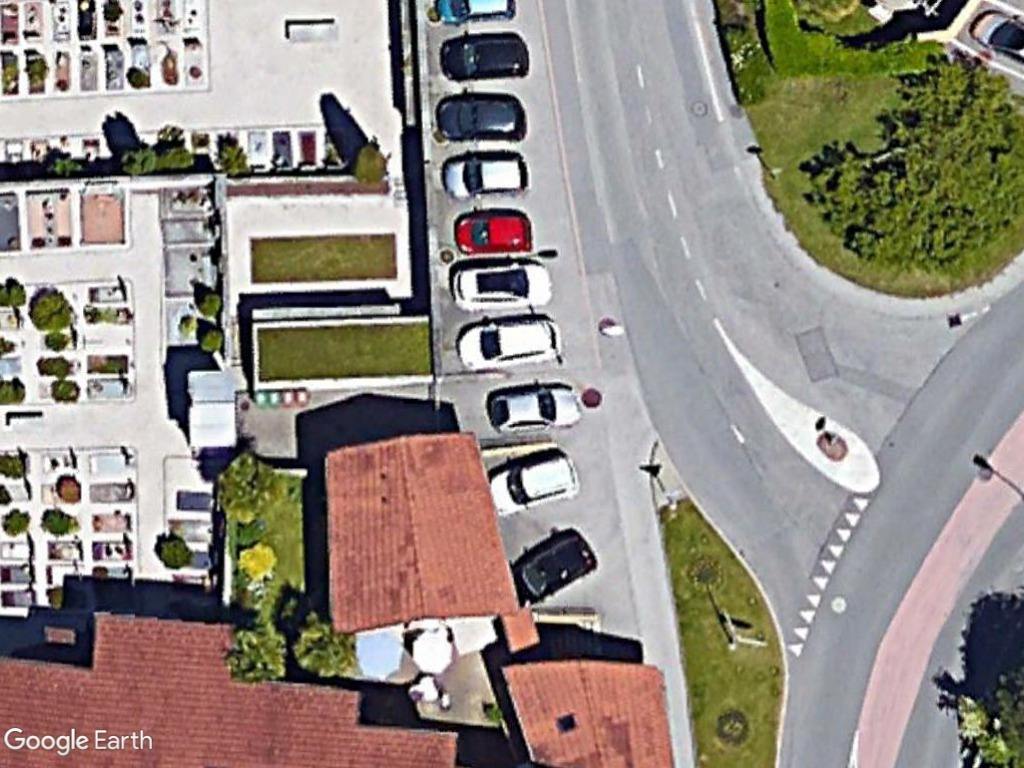car: (488, 450, 585, 519), (454, 316, 565, 376), (444, 259, 555, 313), (487, 379, 584, 431), (431, 94, 530, 143), (438, 32, 532, 83), (440, 149, 533, 200), (451, 209, 535, 253)
